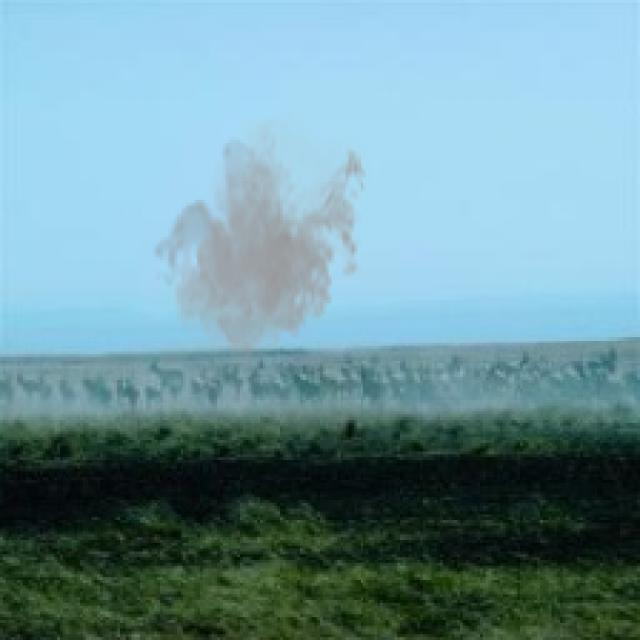smoke: (152, 112, 372, 368)
